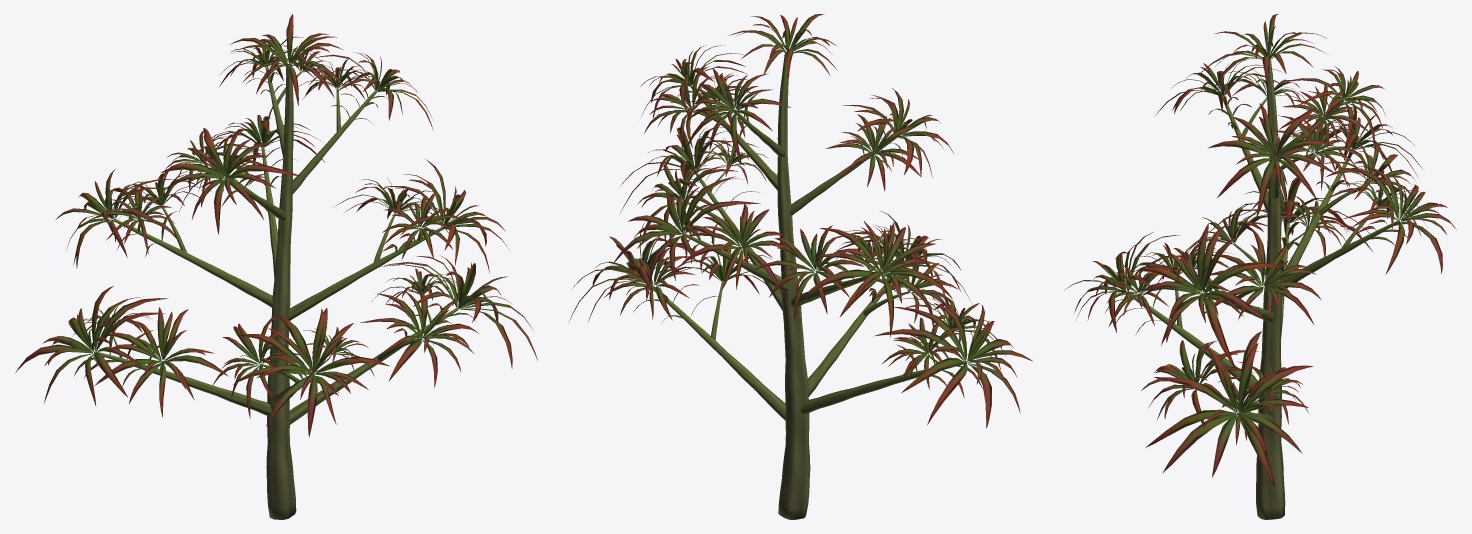
Rendered from alien_desert_plant.glb.
3 renders of one model, left to right at view 1: azimuth 30°, elevation 25°; view 2: azimuth 150°, elevation 25°; view 3: azimuth 270°, elevation 25°, orthographic. The views are drawn at different scales.
Visible parts, largest first — view 1: Alien_Desert_Plant; view 2: Alien_Desert_Plant; view 3: Alien_Desert_Plant.
Boxes of the visible parts, left/top/right/bottom form: Alien_Desert_Plant: left=15, top=14, right=537, bottom=519; Alien_Desert_Plant: left=569, top=14, right=1032, bottom=519; Alien_Desert_Plant: left=1064, top=14, right=1456, bottom=519.
Bounding box in the file's own units: 3.31 × 3.34 × 2.41.
